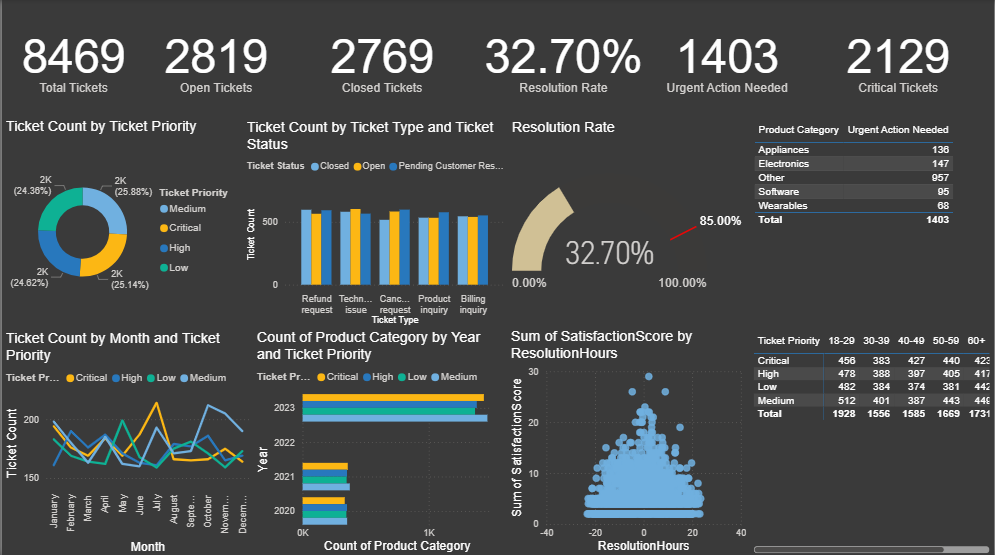

The dashboard page shown, as its layout file describes it:
{"tool":"powerbi","page":{"name":"Page 1","canvas":[1280,720],"ordinal":0},"visuals":[{"type":"card","fields":{"Values":["customer_support_tickets.Total Tickets"]},"box":[0,0,185.1,154.7],"z":0},{"type":"card","fields":{"Values":["customer_support_tickets.Open Tickets"]},"box":[185.1,0,183.6,154.7],"z":1000},{"type":"card","fields":{"Values":["customer_support_tickets.Resolution Rate"]},"box":[612,0,225.6,154.8],"z":2000},{"type":"card","fields":{"Values":["customer_support_tickets.Closed Tickets"]},"box":[368.7,0,242.9,154.7],"z":3000},{"type":"card","fields":{"Values":["customer_support_tickets.Urgent Action Needed"]},"box":[837.1,0,196.6,154.7],"z":4000},{"type":"donutChart","fields":{"Category":["customer_support_tickets.Ticket Priority"],"Y":["customer_support_tickets.Ticket Count"]},"box":[0,153.3,310.8,273.3],"z":5000},{"type":"clusteredColumnChart","fields":{"Category":["customer_support_tickets.Ticket Type"],"Series":["customer_support_tickets.Ticket Status"],"Y":["customer_support_tickets.Ticket Count"]},"box":[310.8,154.7,342.7,271.8],"z":6000},{"type":"gauge","fields":{"Y":["customer_support_tickets.Resolution Rate"]},"box":[653.5,154.7,312.3,271.8],"z":7000},{"type":"lineChart","fields":{"Category":["DateTable.Date.Variation.Date Hierarchy.Month"],"Y":["customer_support_tickets.Ticket Count"],"Series":["customer_support_tickets.Ticket Priority"]},"box":[0,426.5,323.9,293.5],"z":8000},{"type":"clusteredBarChart","fields":{"Category":["customer_support_tickets.First Response Time Clean.Variation.Date Hierarchy.Year","customer_support_tickets.First Response Time Clean.Variation.Date Hierarchy.Quarter","customer_support_tickets.First Response Time Clean.Variation.Date Hierarchy.Month","customer_support_tickets.First Response Time Clean.Variation.Date Hierarchy.Day"],"Y":["CountNonNull(customer_support_tickets.Product Category)"],"Series":["customer_support_tickets.Ticket Priority"]},"box":[323.3,426.1,329.1,293.9],"z":9000},{"type":"scatterChart","fields":{"X":["customer_support_tickets.ResolutionHours"],"Y":["Sum(customer_support_tickets.SatisfactionScore)"]},"box":[652,425.1,313.7,294.9],"z":10000},{"type":"tableEx","fields":{"Values":["customer_support_tickets.Product Category","customer_support_tickets.Urgent Action Needed"]},"box":[965.8,154.7,313.7,271.8],"z":10001},{"type":"card","fields":{"Values":["customer_support_tickets.Critical Tickets"]},"box":[1033.7,0,245.8,154.7],"z":10002},{"type":"pivotTable","fields":{"Rows":["customer_support_tickets.Ticket Priority"],"Columns":["customer_support_tickets.Age Group"],"Values":["CountNonNull(customer_support_tickets.Ticket ID)"]},"box":[965.8,426.5,313.7,293.5],"z":10003}]}

Visuals, with their boxes in screenshot pixels (x1, y1, x2, y2), scaled from the page's 1280x720 canvas onto the 995x555 screenshot:
card - customer_support_tickets.Total Tickets: detection(0, 0, 144, 119)
card - customer_support_tickets.Open Tickets: detection(144, 0, 287, 119)
card - customer_support_tickets.Resolution Rate: detection(476, 0, 651, 119)
card - customer_support_tickets.Closed Tickets: detection(287, 0, 475, 119)
card - customer_support_tickets.Urgent Action Needed: detection(651, 0, 804, 119)
donutChart - customer_support_tickets.Ticket Priority x customer_support_tickets.Ticket Count: detection(0, 118, 242, 329)
clusteredColumnChart - customer_support_tickets.Ticket Type x customer_support_tickets.Ticket Status: detection(242, 119, 508, 329)
gauge - customer_support_tickets.Resolution Rate: detection(508, 119, 751, 329)
lineChart - DateTable.Date.Variation.Date Hierarchy.Month x customer_support_tickets.Ticket Count: detection(0, 329, 252, 554)
clusteredBarChart - customer_support_tickets.First Response Time Clean.Variation.Date Hierarchy.Year x customer_support_tickets.First Response Time Clean.Variation.Date Hierarchy.Quarter: detection(251, 328, 507, 554)
scatterChart - customer_support_tickets.ResolutionHours x Sum(customer_support_tickets.SatisfactionScore): detection(507, 328, 751, 554)
tableEx - customer_support_tickets.Product Category x customer_support_tickets.Urgent Action Needed: detection(751, 119, 994, 329)
card - customer_support_tickets.Critical Tickets: detection(804, 0, 994, 119)
pivotTable - customer_support_tickets.Ticket Priority x customer_support_tickets.Age Group: detection(751, 329, 994, 554)
